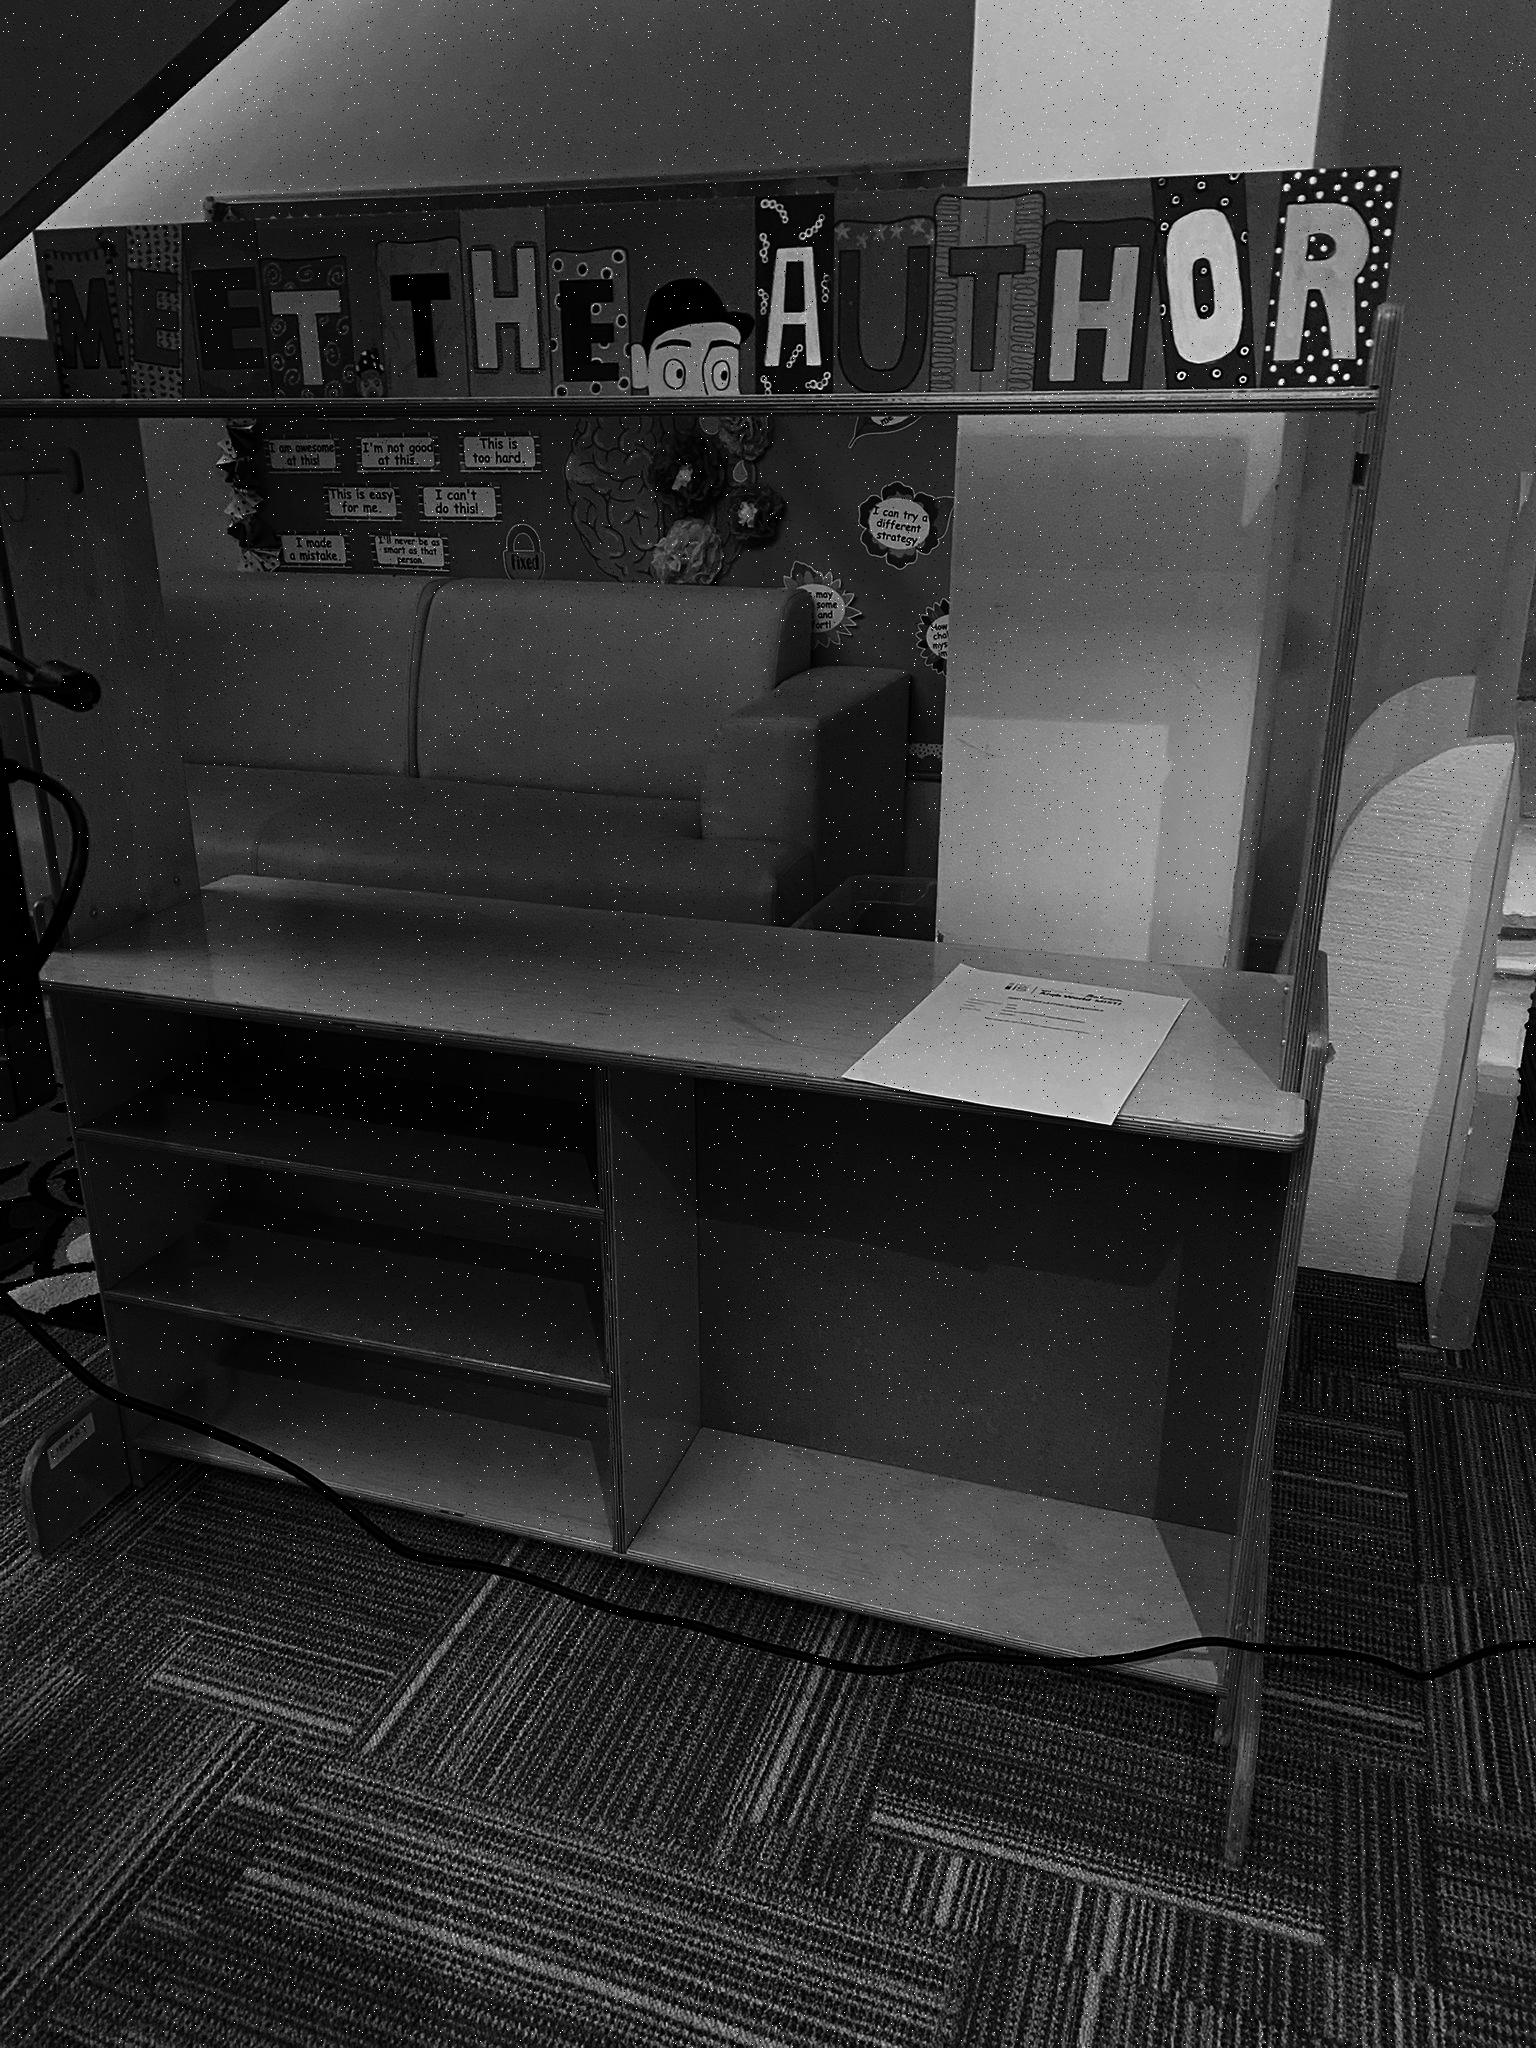Couch: (165, 572, 907, 924)
